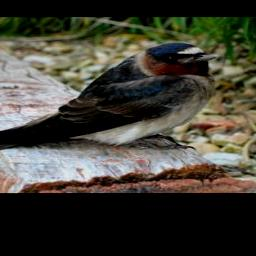Swallow: (0, 39, 225, 159)
